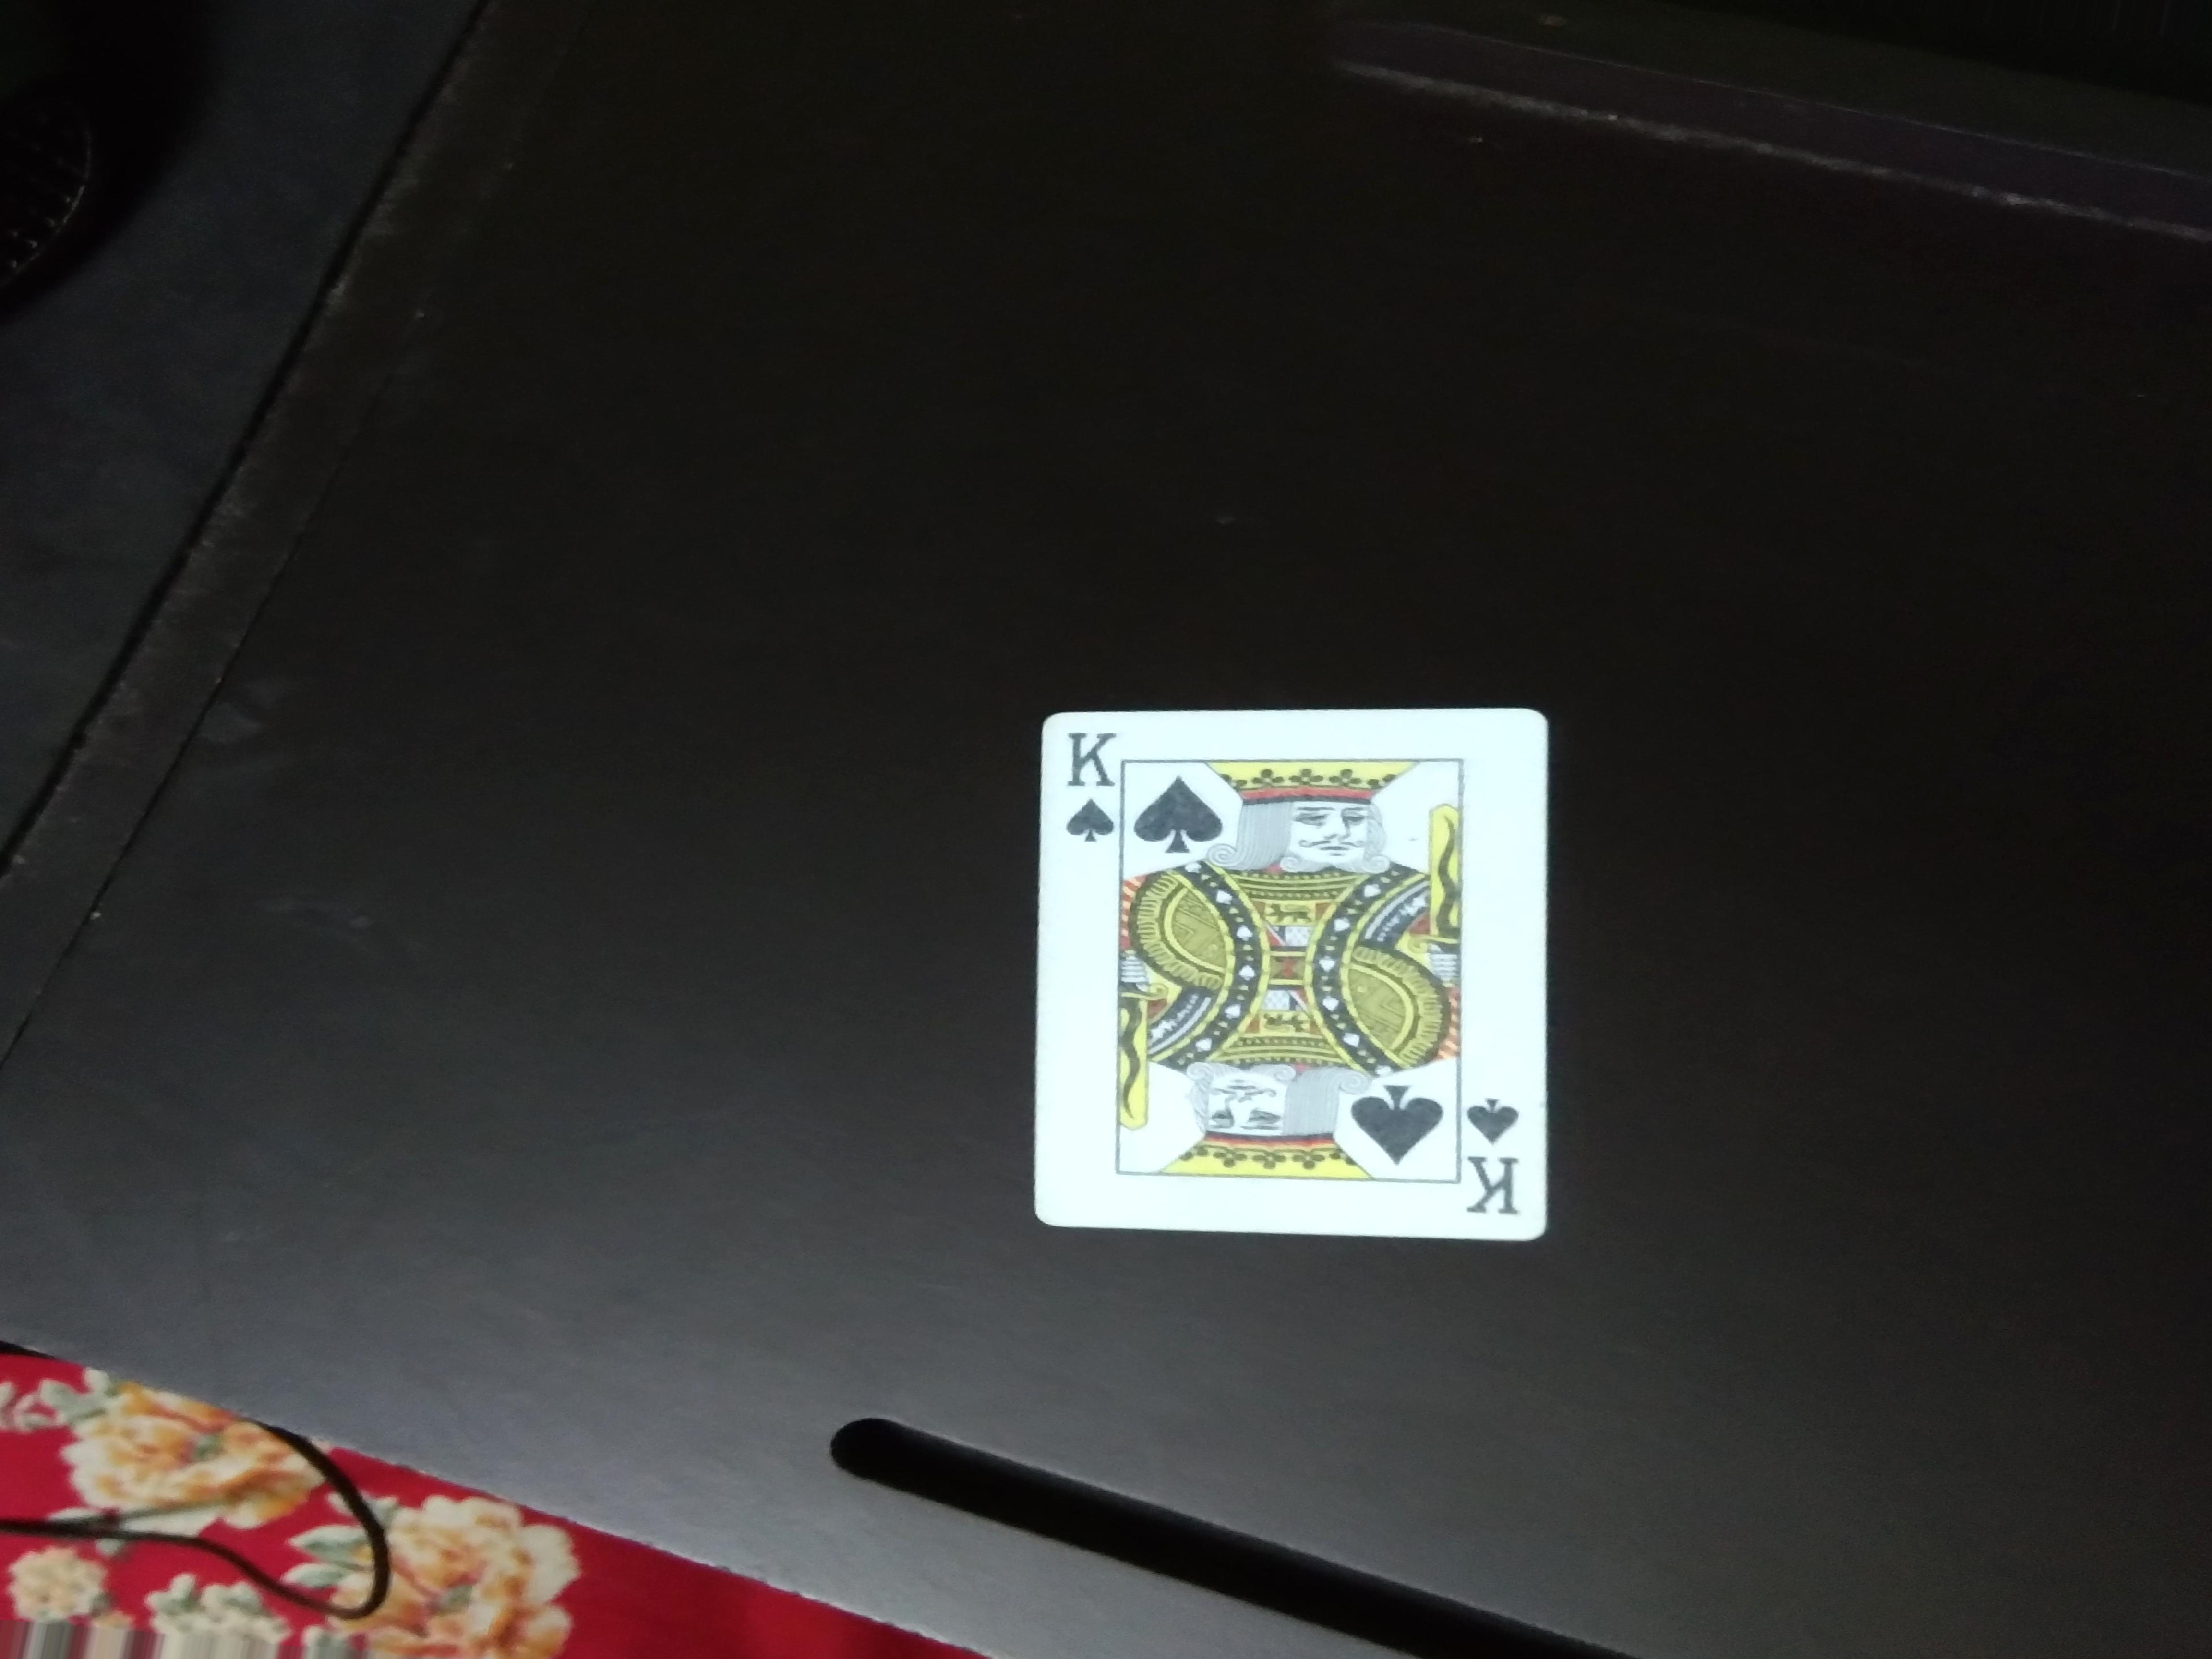KS: (1055, 727, 1127, 859)
